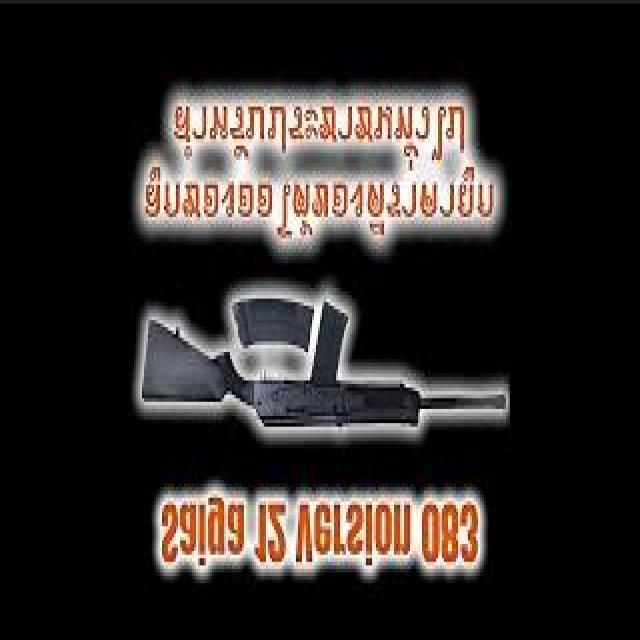weapon: (140, 298, 508, 432)
